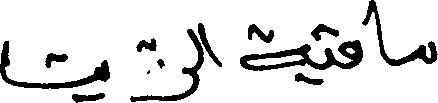X: (0, 36, 98, 102), (241, 19, 304, 86), (148, 24, 188, 102), (370, 0, 384, 64), (190, 18, 201, 99), (203, 20, 220, 71), (340, 35, 360, 73), (415, 36, 437, 68), (100, 55, 109, 102), (325, 20, 332, 73)
